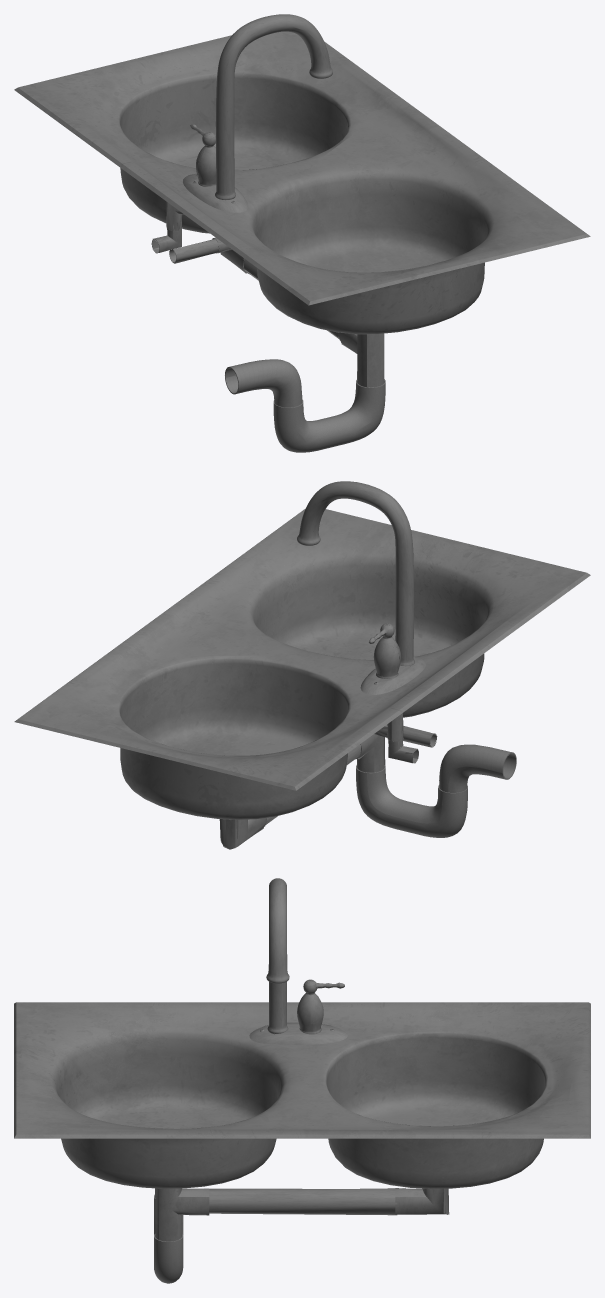
Rendered from kitchenSink.fbx.
3 renders of one model, top to bottom at view 1: azimuth 30°, elevation 25°; view 2: azimuth 150°, elevation 25°; view 3: azimuth 270°, elevation 25°, orthographic. The views are drawn at different scales.
Parts seen in each view (by area): view 1: sink_0, facet_10, drain pipe curve _6, drain pipe exit_7, drain tee.l_2, facet plate_11, wtaer valve_12, cold water straight pipe_22; view 2: sink_0, facet_10, drain pipe curve _6, drain pipe exit_7, wtaer valve_12, facet plate_11, drain 90.r_3, drain tee.l_2, cold water straight pipe_22, hot water 90.2_20; view 3: sink_0, cross drain pipe_5, facet_10, drain tee.l_2, drain 90.r_3, facet plate_11, drain pipe curve _6, wtaer valve_12.
Part boxes in pixels (box(x1,y1,x2,y2)): sink_0: box(14, 31, 590, 334); facet_10: box(215, 14, 332, 199); drain pipe curve _6: box(273, 379, 385, 452); drain pipe exit_7: box(225, 359, 302, 407); drain tee.l_2: box(338, 332, 384, 387); facet plate_11: box(183, 173, 248, 212); wtaer valve_12: box(190, 124, 216, 186); cold water straight pipe_22: box(169, 239, 223, 263); sink_0: box(14, 509, 590, 819); facet_10: box(297, 481, 414, 666); drain pipe curve _6: box(356, 765, 467, 837); drain pipe exit_7: box(439, 744, 516, 792); wtaer valve_12: box(369, 623, 400, 678); facet plate_11: box(360, 656, 426, 694); drain 90.r_3: box(219, 818, 267, 849); drain tee.l_2: box(355, 734, 385, 772); cold water straight pipe_22: box(381, 726, 437, 747); hot water 90.2_20: box(388, 740, 418, 763); sink_0: box(14, 1002, 590, 1188); cross drain pipe_5: box(209, 1188, 397, 1215); facet_10: box(266, 878, 289, 1034); drain tee.l_2: box(155, 1188, 209, 1241); drain 90.r_3: box(395, 1188, 449, 1214); facet plate_11: box(249, 1022, 347, 1044); drain pipe curve _6: box(154, 1194, 183, 1283); wtaer valve_12: box(297, 979, 344, 1034).
Bounding box in the file's own units: 239 × 315 × 432.
